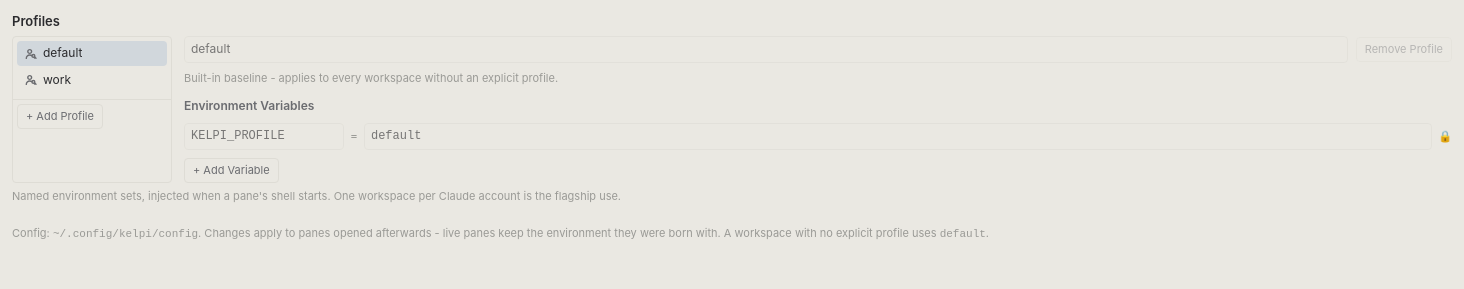
Test case: deselection (SET-080) › the placeholder’s inline Add creates a profile and selects it
Click the list with test id "profiles-list".
click(92, 110)  # box [12,36,172,183]
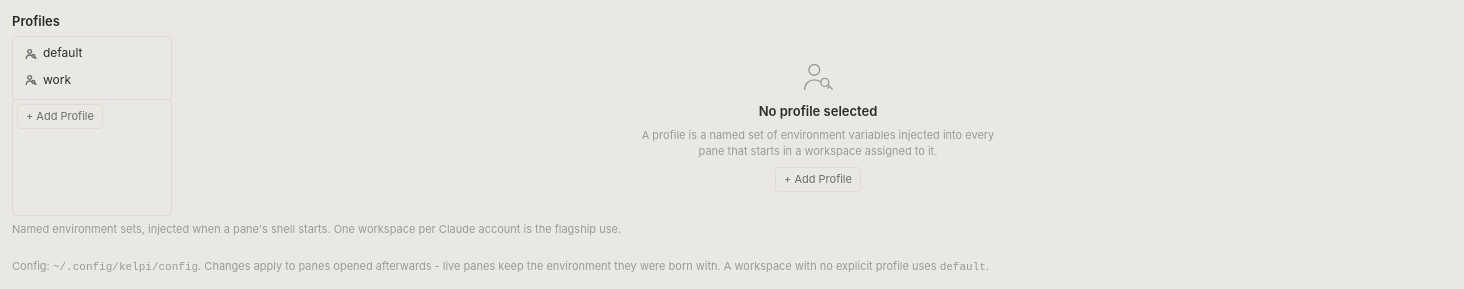
Click the button with test id "profile-add-empty".
click(818, 180)  # box [775,167,861,192]
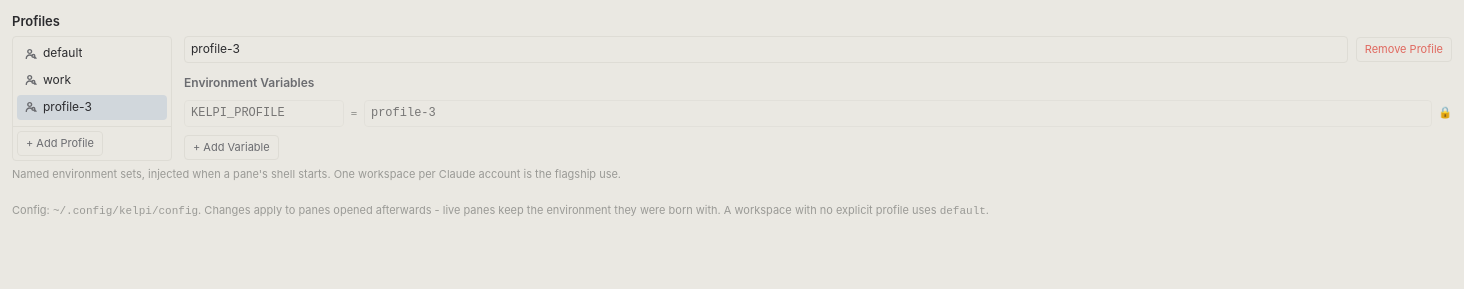
Check: the field with test id "profile-name" holds "profile-3", box [184,36,1348,63]
